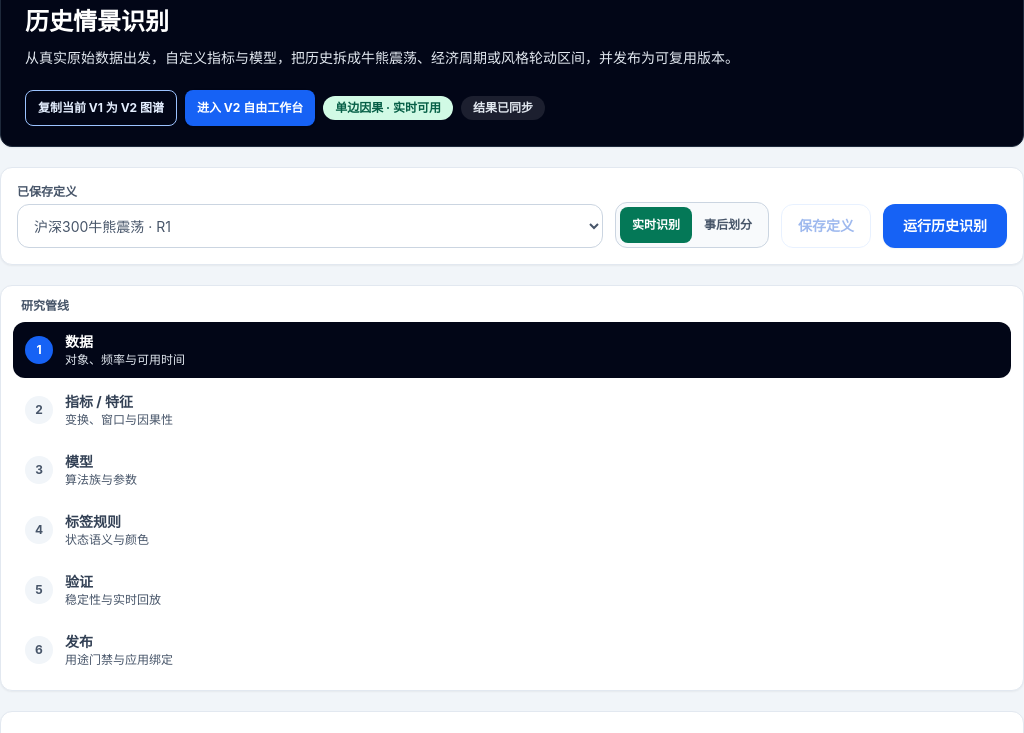
HistoricalRegimeCenter › 参数变化使结果过期，重新运行发送完整定义并刷新不可变结果
Expected: the heading "历史情景识别" is shown, [25,7,169,36]
Click the button "3 模型 算法族与参数" at (101, 480), box [13,442,1011,498]
(page scrolled)
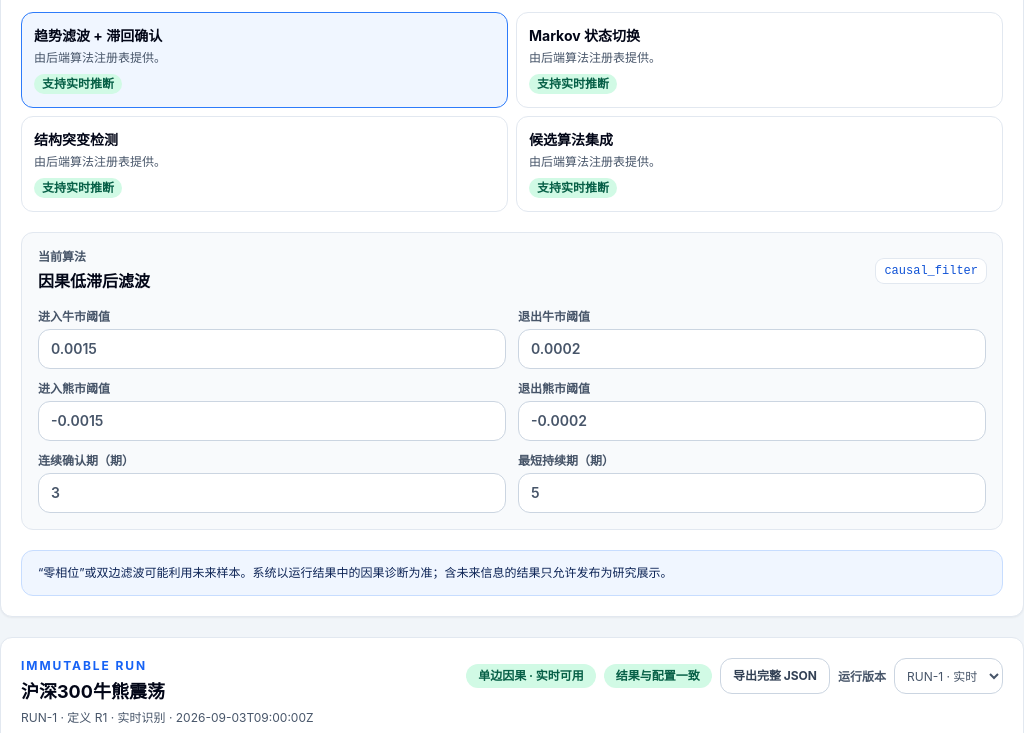
Replace the text in the number field named "算法参数 进入牛市阈值" with "0.002" at (272, 349), box [38,329,506,369]
(page scrolled)
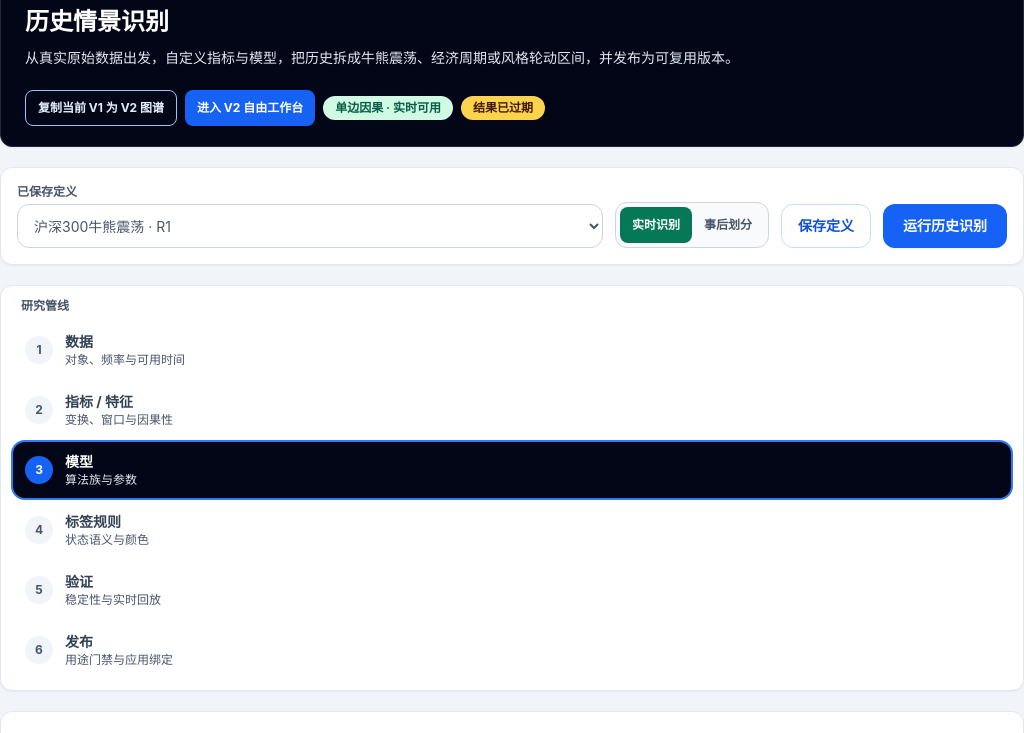
Click the button "运行历史识别" at (945, 226), box [883,204,1007,248]
(page scrolled)
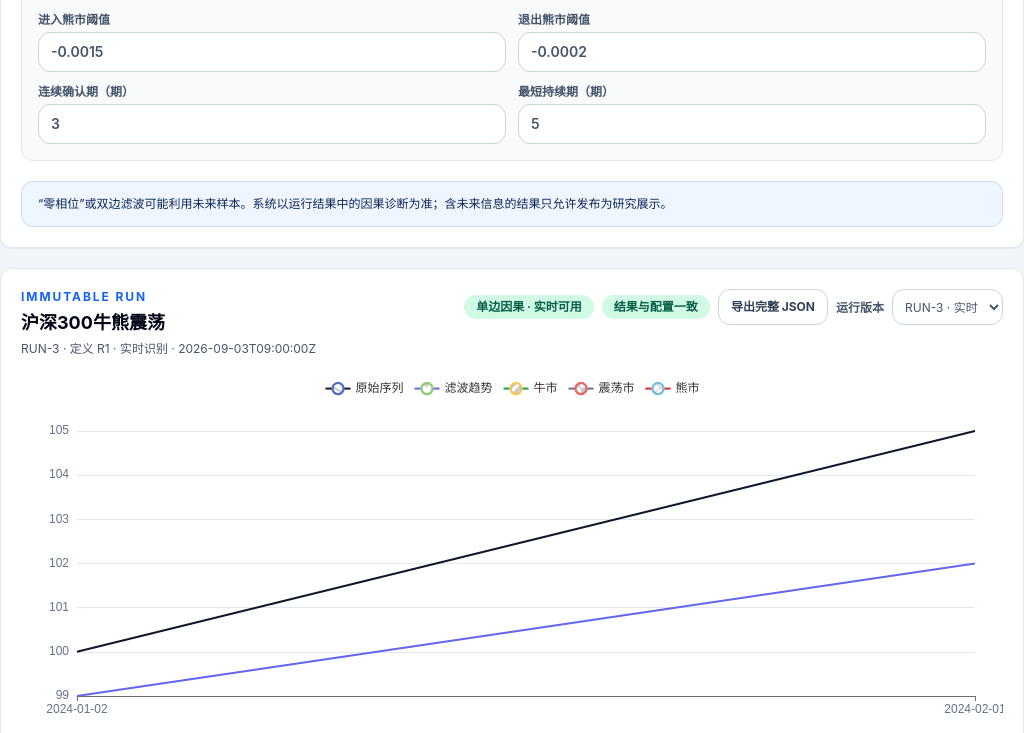
Now the text "RUN-3 · 定义 R1 · 实时识别 · 2026-09-03T09:00:00Z" is shown, box [21,341,316,357]
